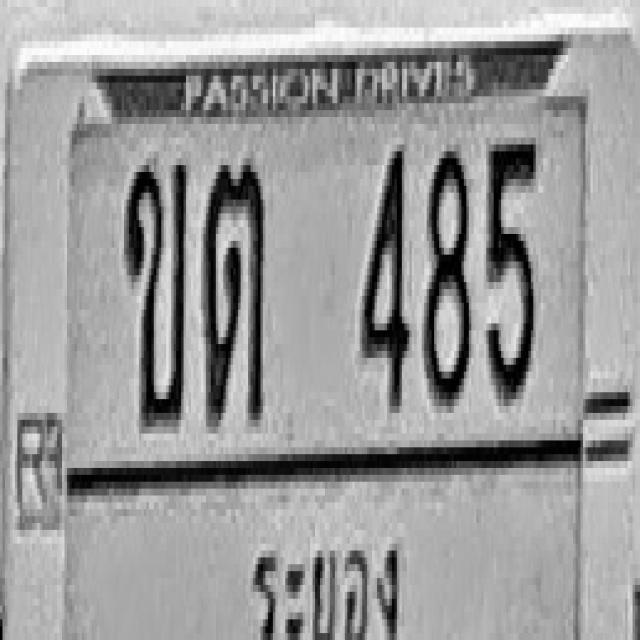11KhorKhai: (126, 155, 188, 423)
30TorTao: (203, 158, 263, 420)
4: (361, 141, 408, 403)
5: (486, 134, 536, 396)
8: (423, 141, 470, 403)
Rayong: (243, 509, 407, 640)
